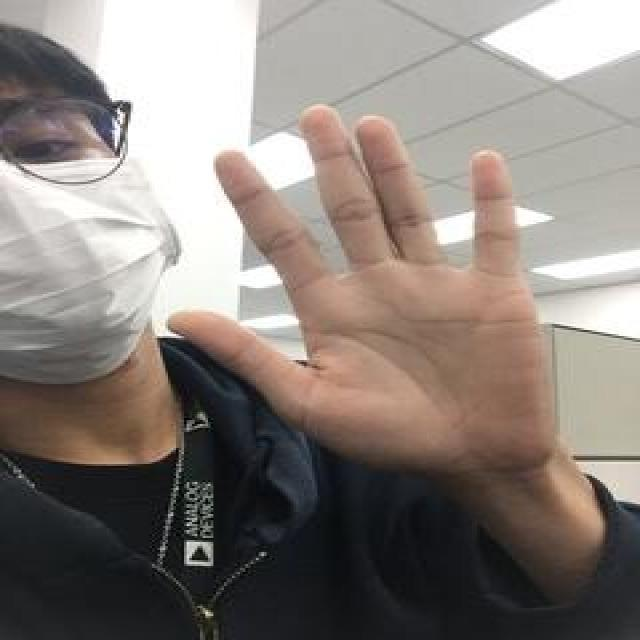hand: (157, 100, 555, 476)
